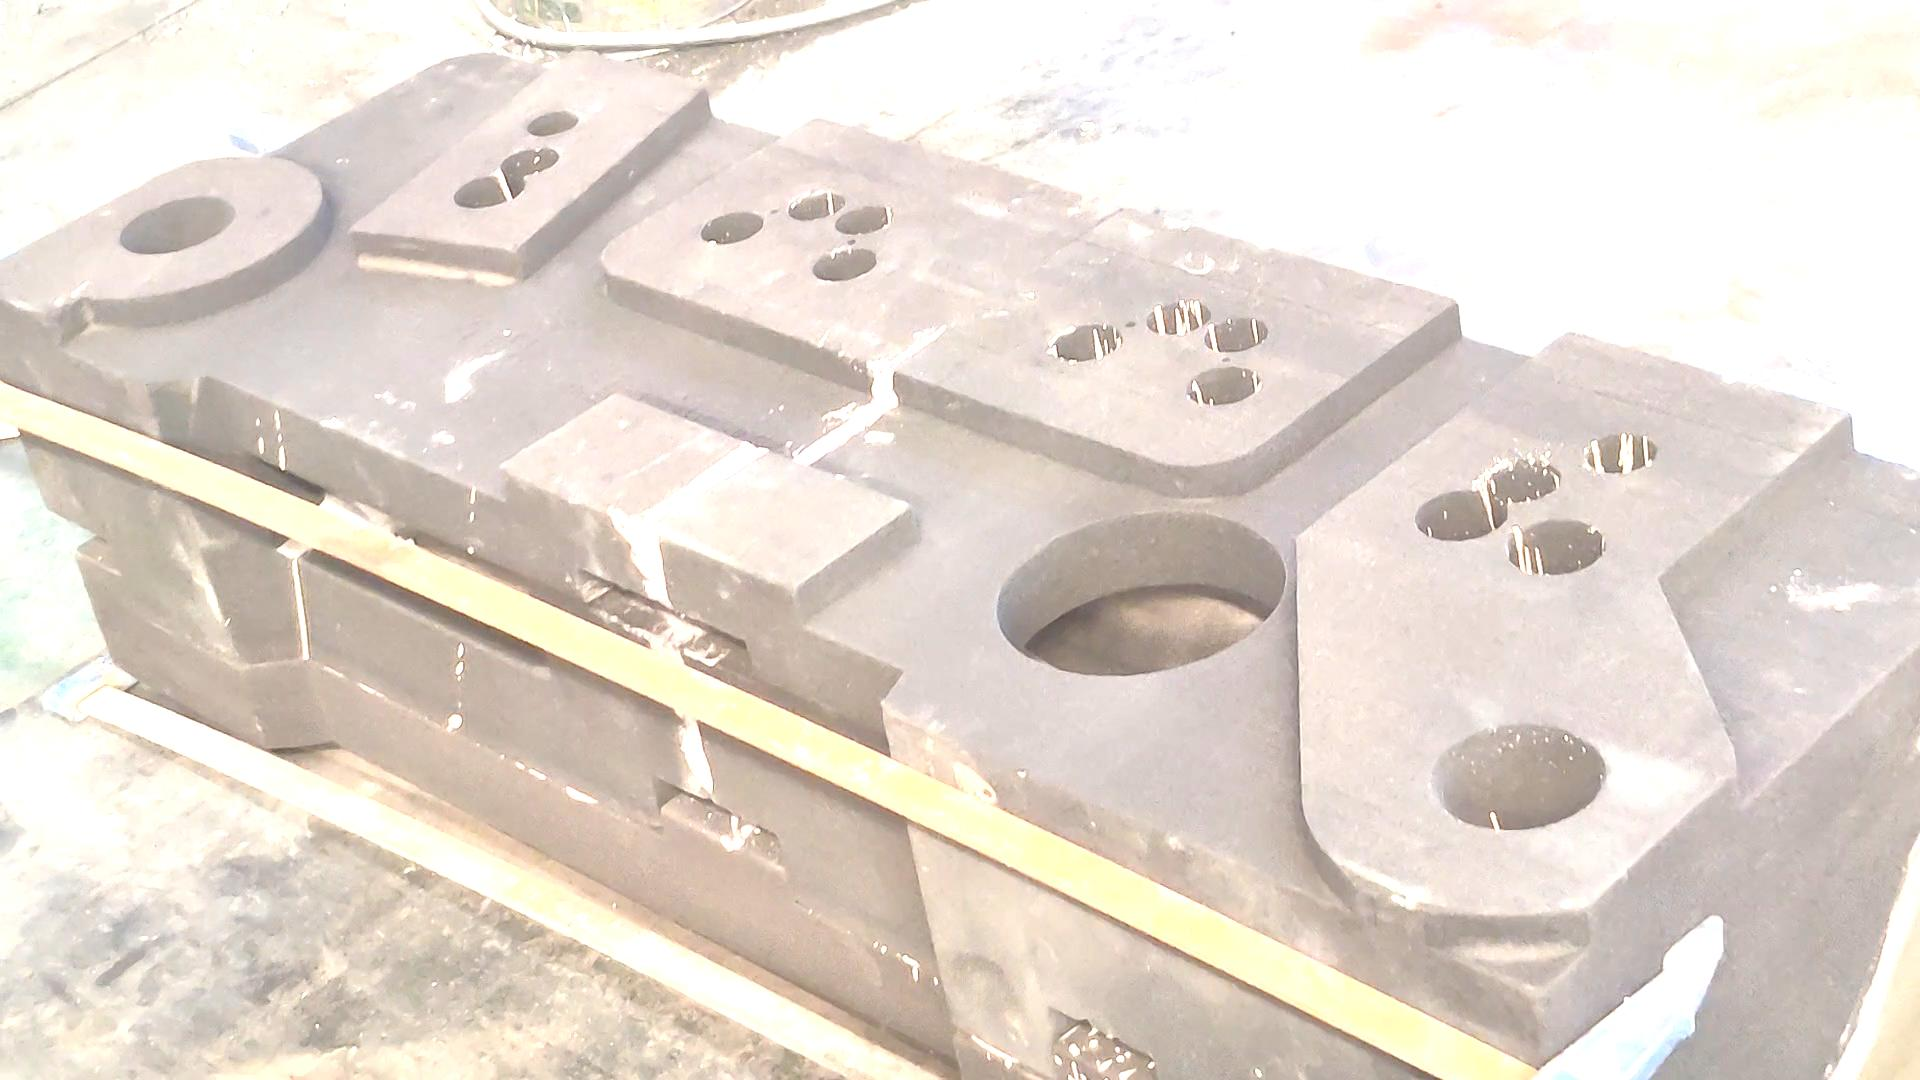pouring hole: (1428, 723, 1607, 831), (117, 195, 237, 255)
